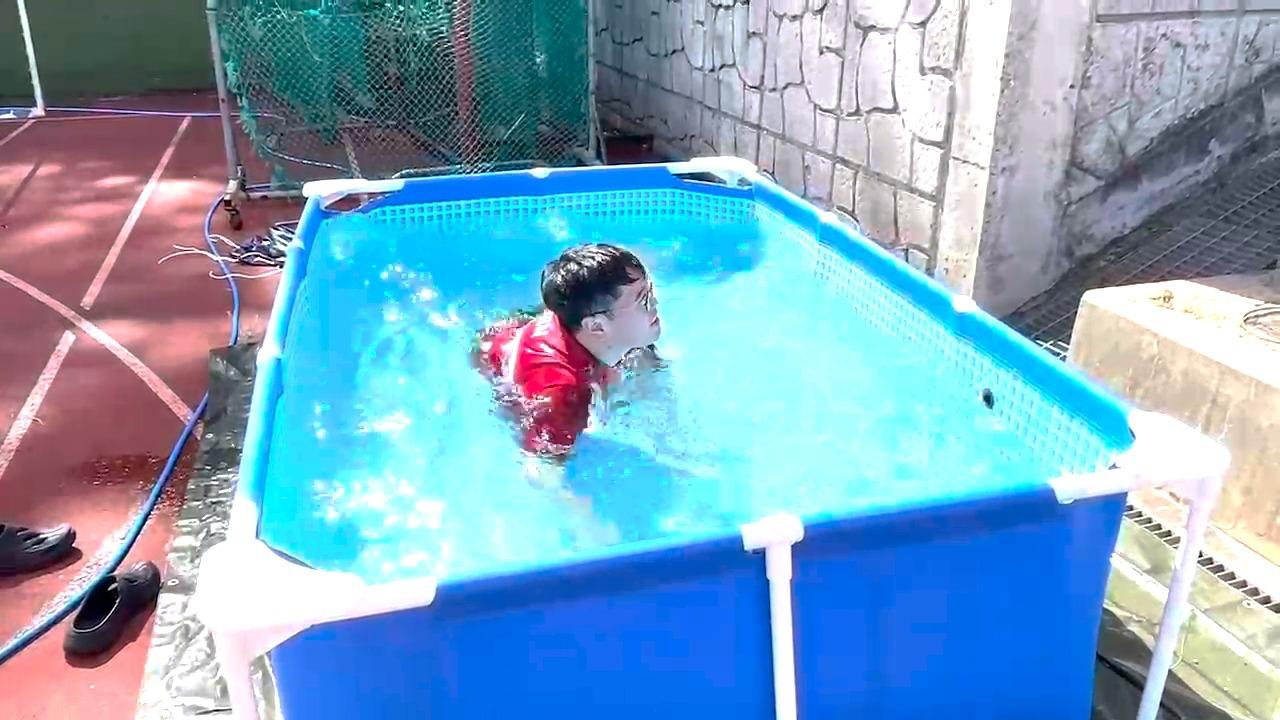Swimming: (451, 245, 687, 468)
